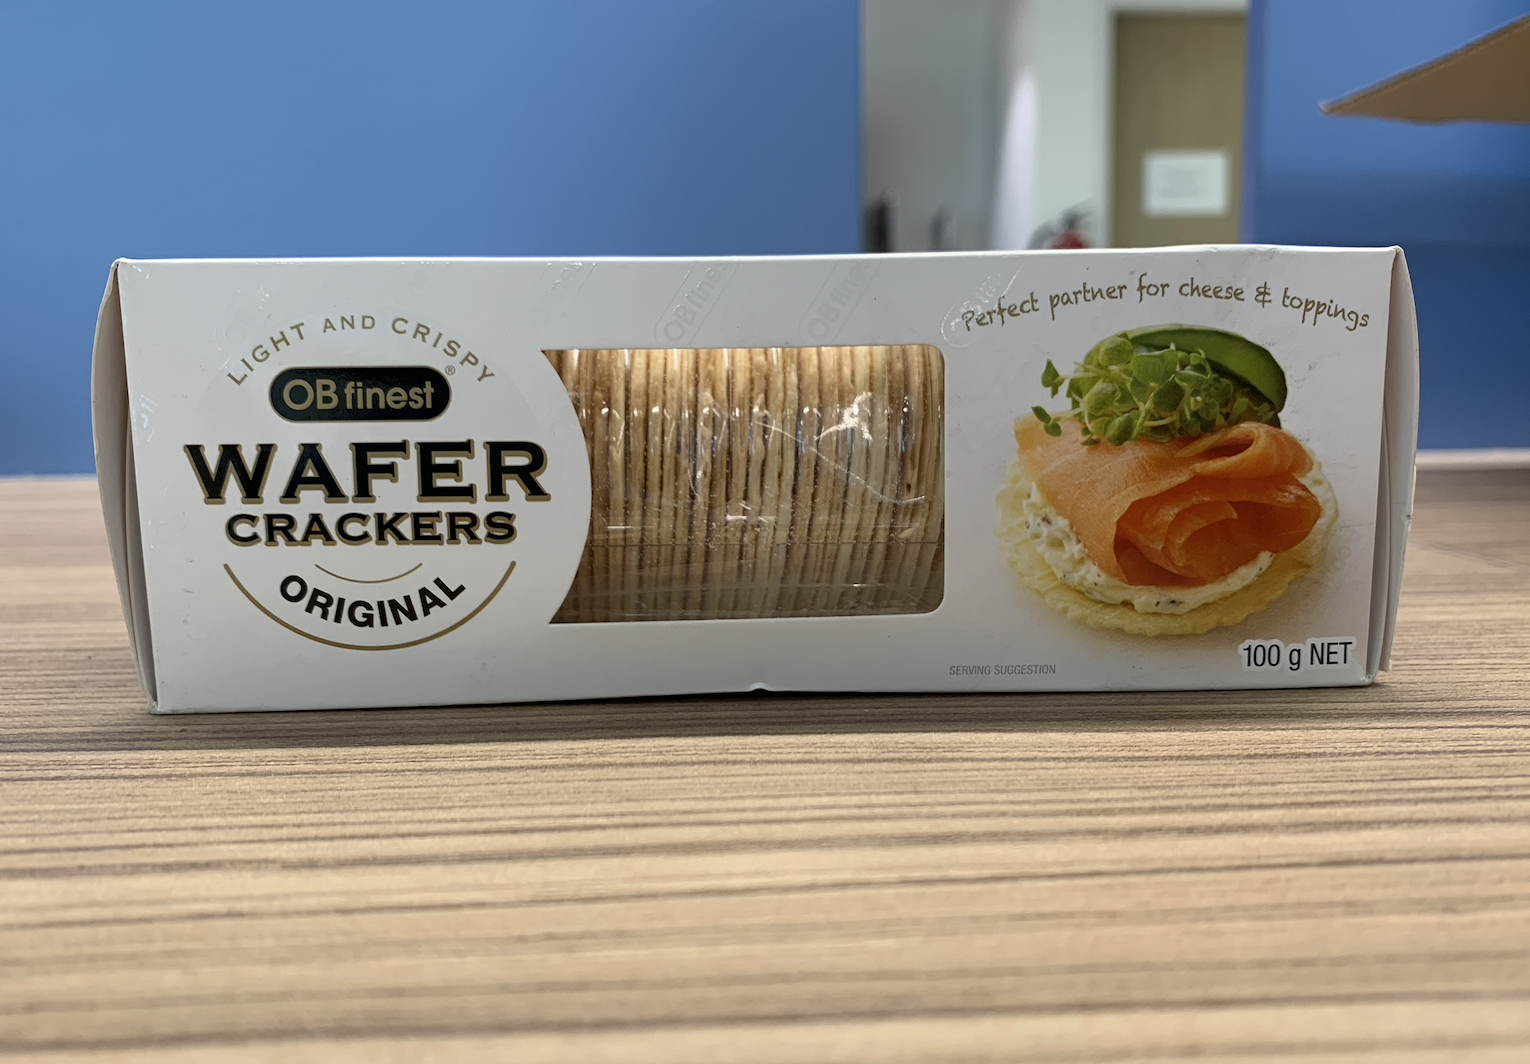crackers_150g: (180, 273, 1380, 681)
